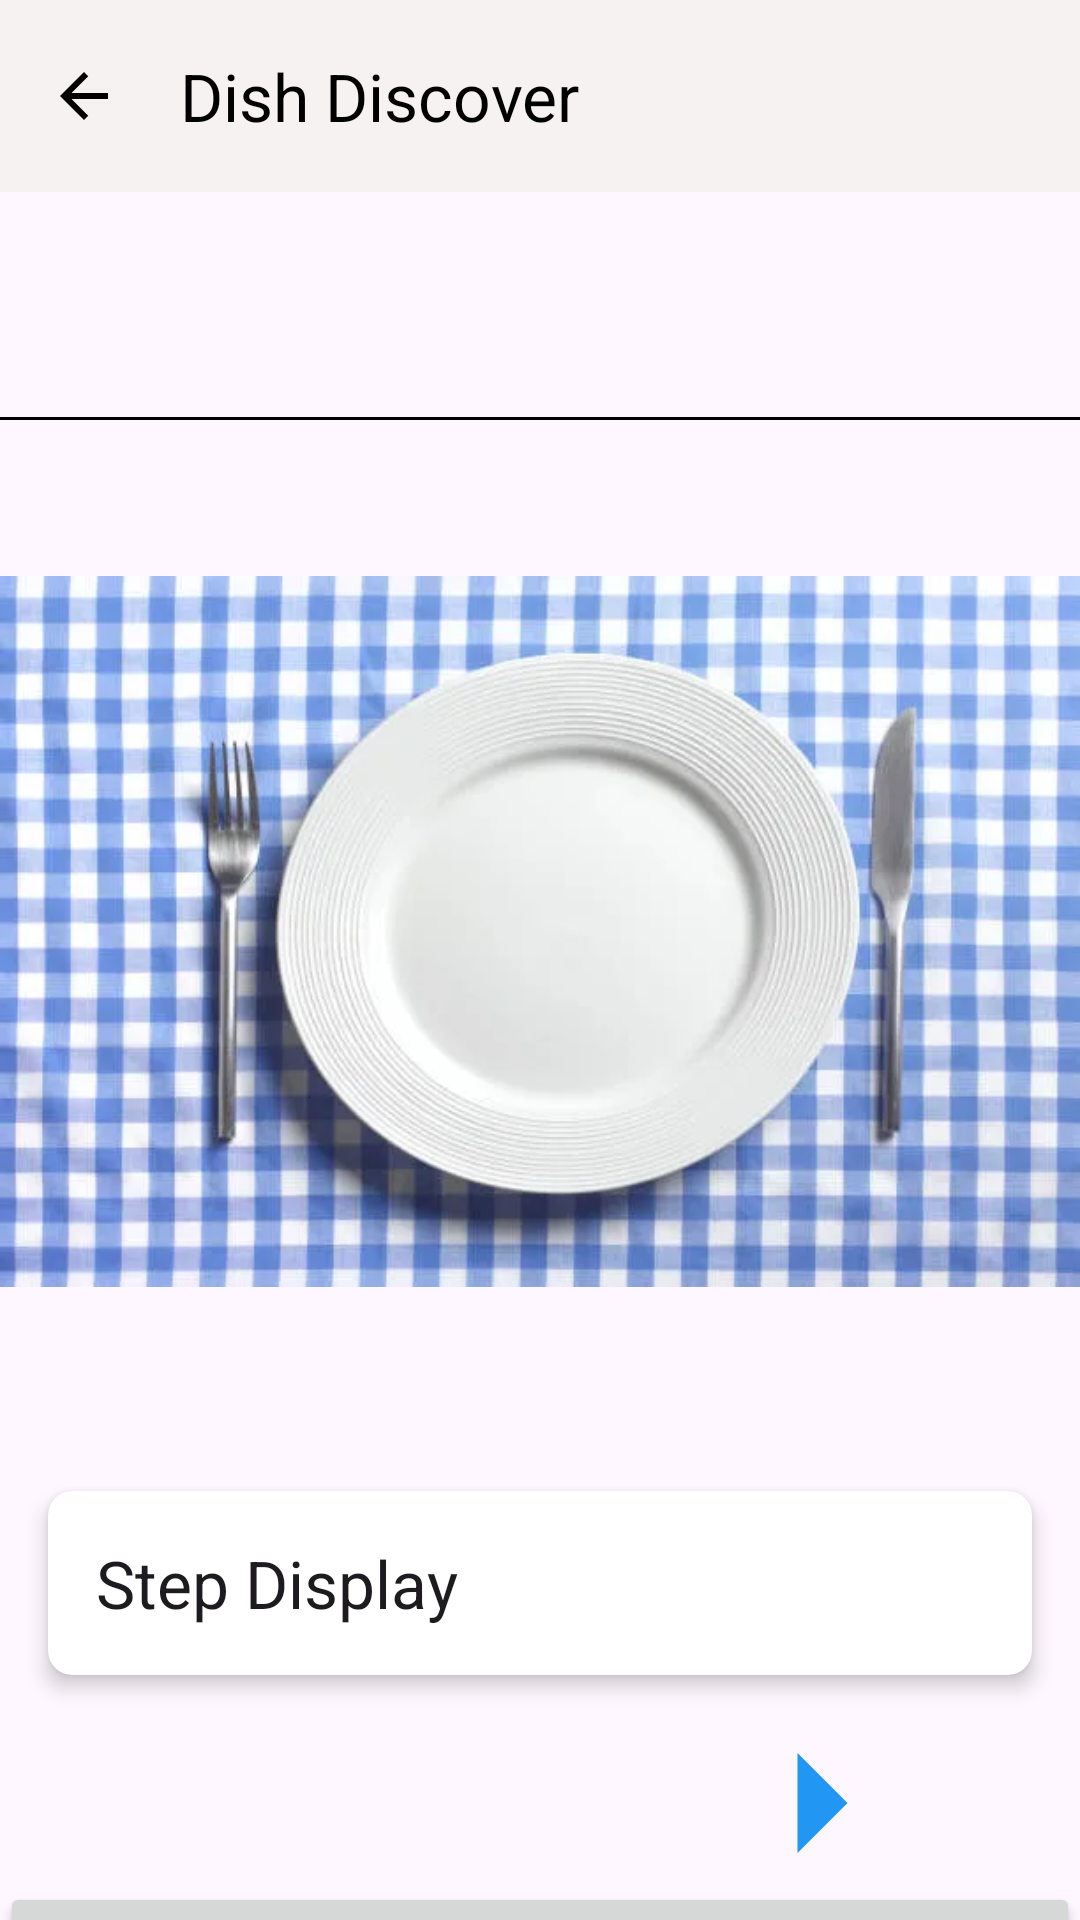

Named icons in this screenshot (1080w x 1920h) and their bounding boxes, {"left": x1, "top": y1, "right": x2, "bottom": y2}:
Next Step: {"left": 797, "top": 1753, "right": 848, "bottom": 1853}
